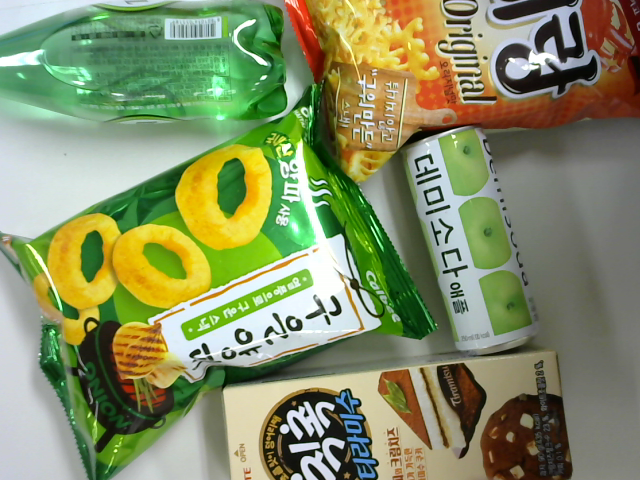Chicchok_Tiramisu: (219, 352, 568, 480)
Crabrang: (283, 4, 639, 188)
Demisoda_Apple_Can_250ml: (401, 124, 541, 360)
Grilled_Onions: (1, 94, 433, 472)
Treviraim_500ml: (5, 1, 291, 134)
